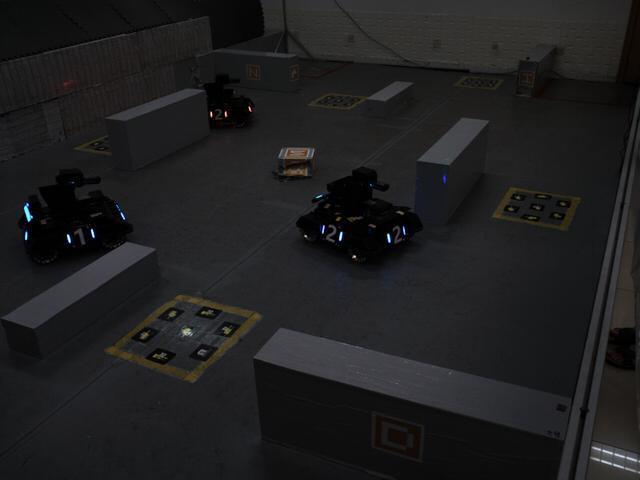armor: (62, 224, 97, 249), (317, 220, 346, 249), (384, 225, 410, 247), (206, 106, 232, 125)
